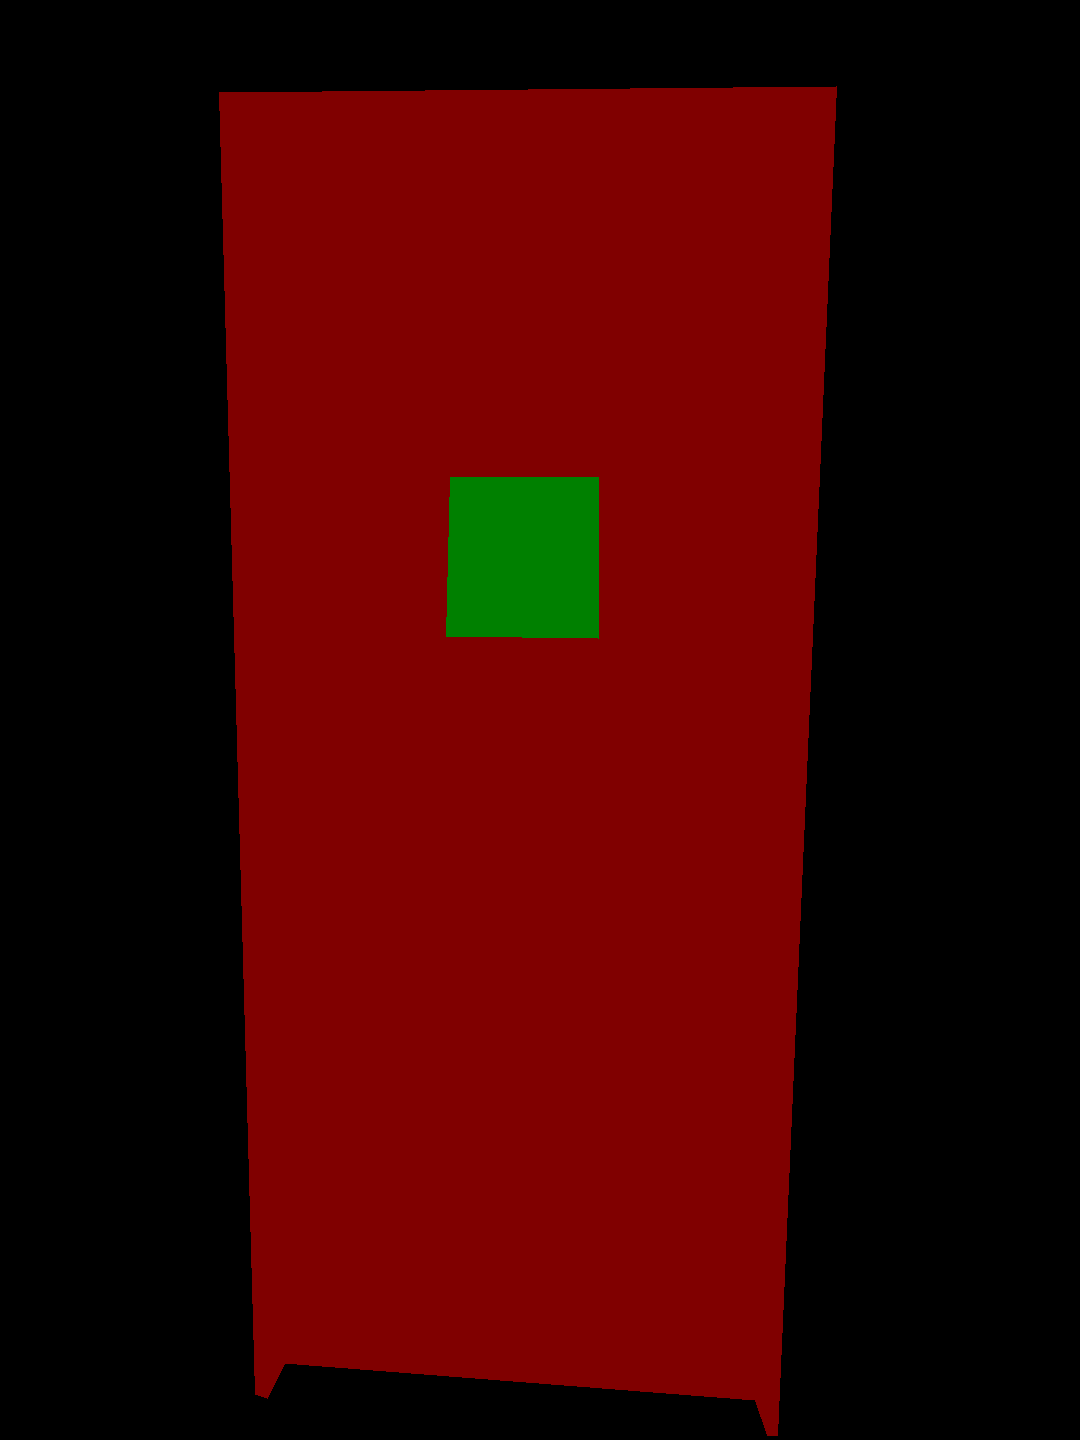door: (219, 86, 836, 1435)
sign: (446, 477, 598, 638)
